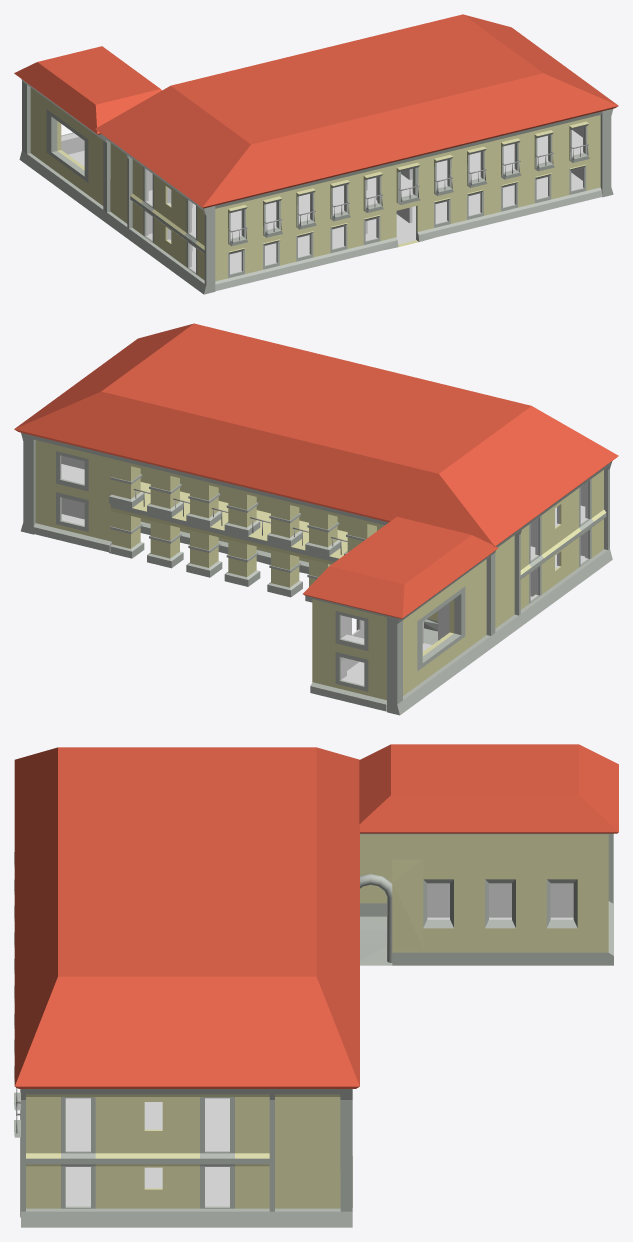
File: MuseuPIBIC.dae
3 renders of one model, top to bottom at view 1: azimuth 30°, elevation 25°; view 2: azimuth 150°, elevation 25°; view 3: azimuth 270°, elevation 25°, orthographic. The views are drawn at different scales.
Parts seen in each view (by area): view 1: Cube; view 2: Cube; view 3: Cube.
Boxes of the visible parts, <box> form: Cube: <box>14,14,618,294</box>; Cube: <box>14,323,618,715</box>; Cube: <box>14,744,618,1227</box>.
Size of the model in its own units: 7.95 by 6.21 by 2.37.
